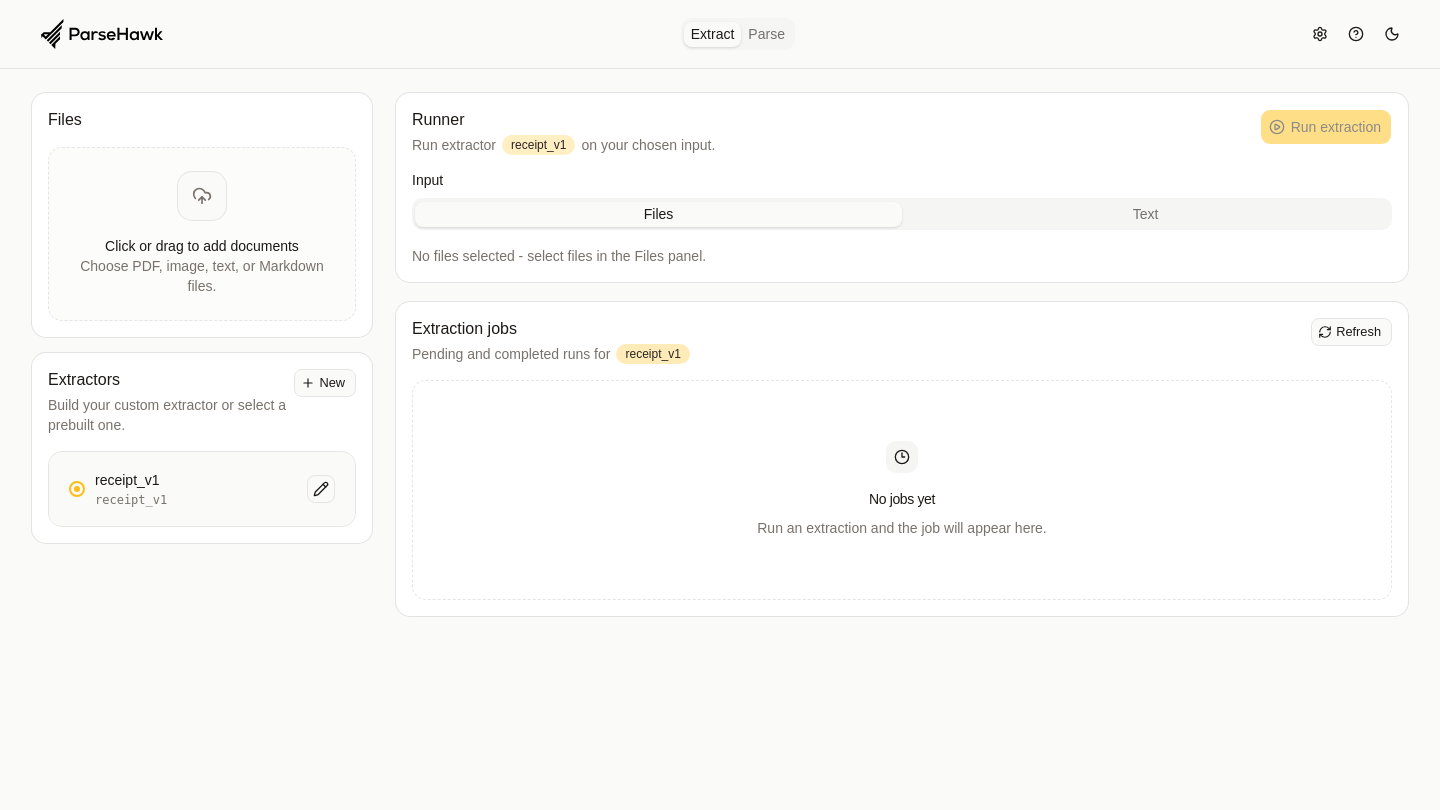
App run workflow › shows job progress as UI instead of raw create-job JSON
Click the tab "Text" at (1146, 214), box [902, 202, 1389, 227]
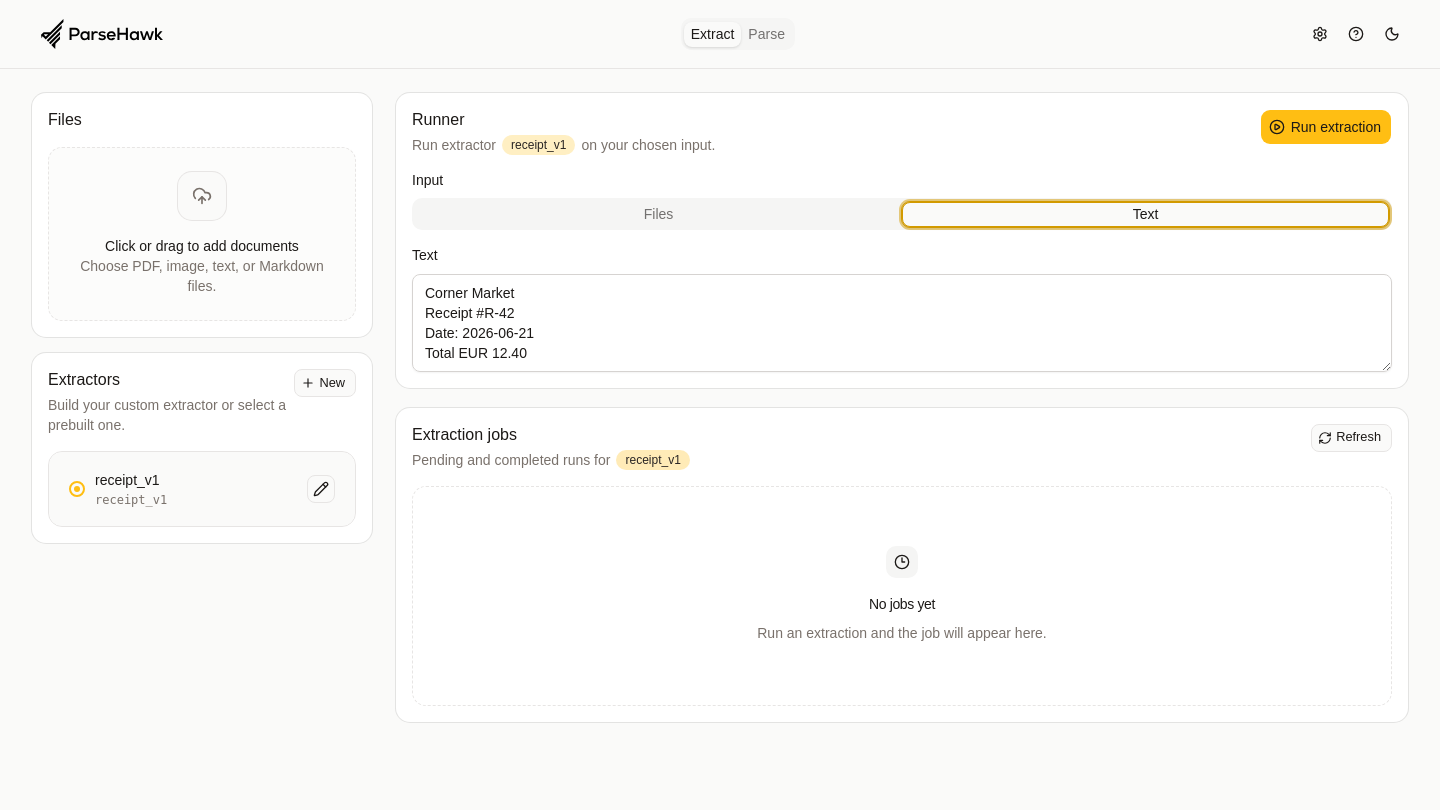
Click the button "Run extraction" at (1326, 127), box [1260, 109, 1392, 145]
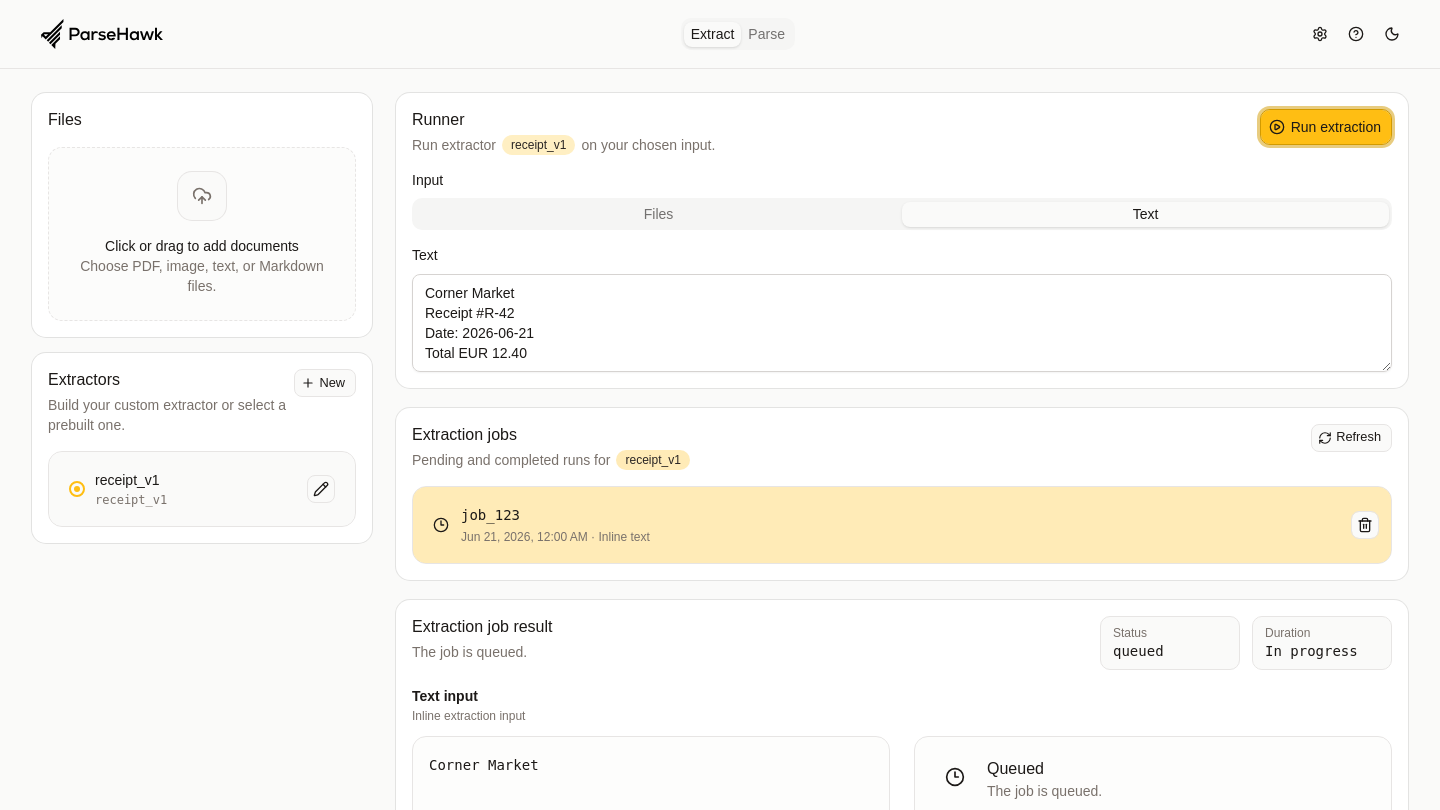
Expected: the heading "Queued" is shown, [987, 760, 1044, 776]
